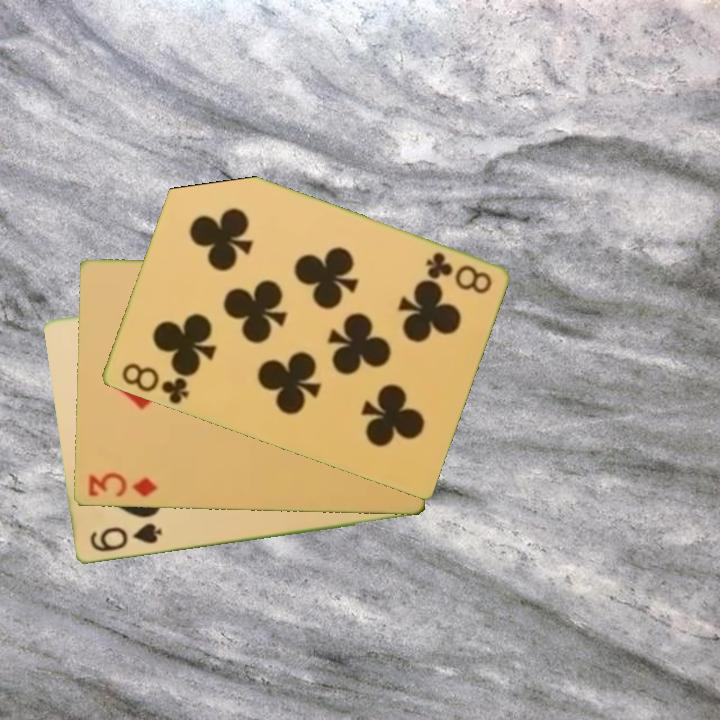3d: (84, 469, 160, 501)
6s: (86, 520, 165, 556)
8c: (421, 248, 495, 297), (117, 359, 191, 407)
